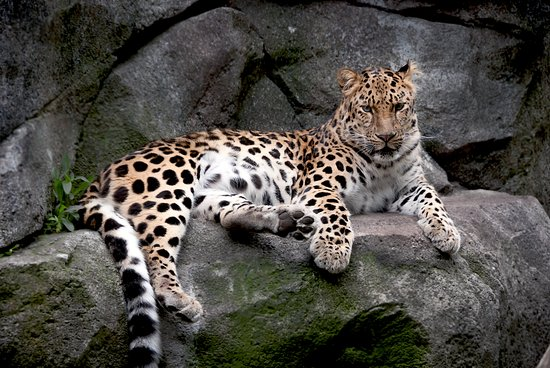amur_leopard: (106, 65, 466, 285)
